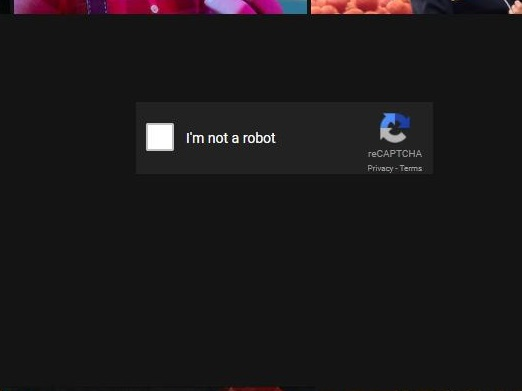captcha: (146, 122, 278, 151)
